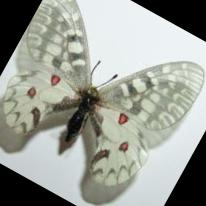butterfly: (0, 0, 204, 205)
